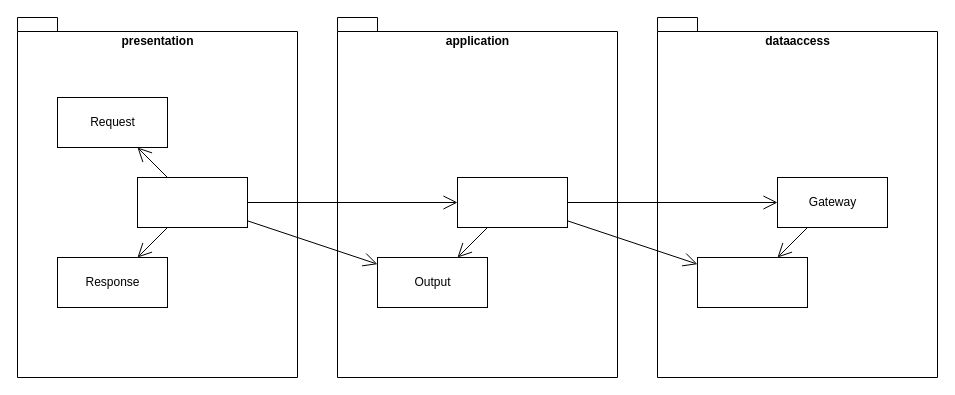
Image size: 955x395. Some labels were removed from this diagram. The shapes that lost their labels are listed below. From the top down, each one's centre as x and y in pixels, then its label:
At pixel 192 202: "Router".
At pixel 512 202: "Service".
At pixel 752 282: "Record".
